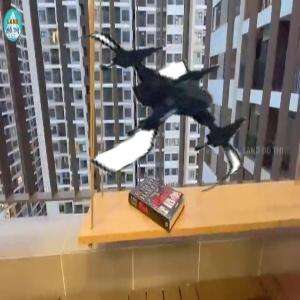drone: (64, 11, 259, 206)
